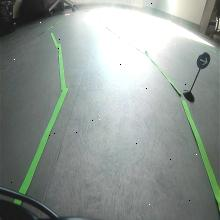right: (196, 52, 211, 70)
